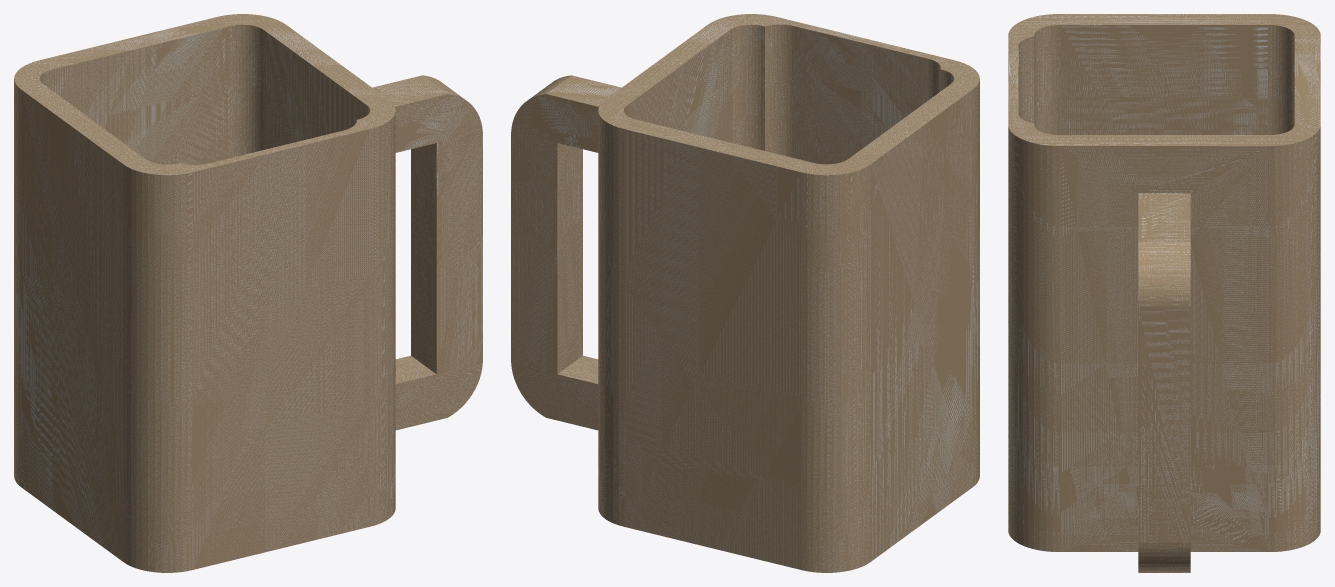
The picture shows the model from 3 angles, left to right: view 1: azimuth 30°, elevation 25°; view 2: azimuth 150°, elevation 25°; view 3: azimuth 270°, elevation 25°; orthographic projection. The views are drawn at different scales.
Visible parts, largest first — view 1: mesh21_mesh21-geometry; view 2: mesh21_mesh21-geometry; view 3: mesh21_mesh21-geometry.
Boxes of the visible parts, x1,y1,x2,y2 form: mesh21_mesh21-geometry: [14, 14, 482, 572]; mesh21_mesh21-geometry: [511, 14, 979, 572]; mesh21_mesh21-geometry: [1008, 14, 1320, 572].
Bounding box in the file's own units: 0.6513 × 0.6223 × 0.4342.
